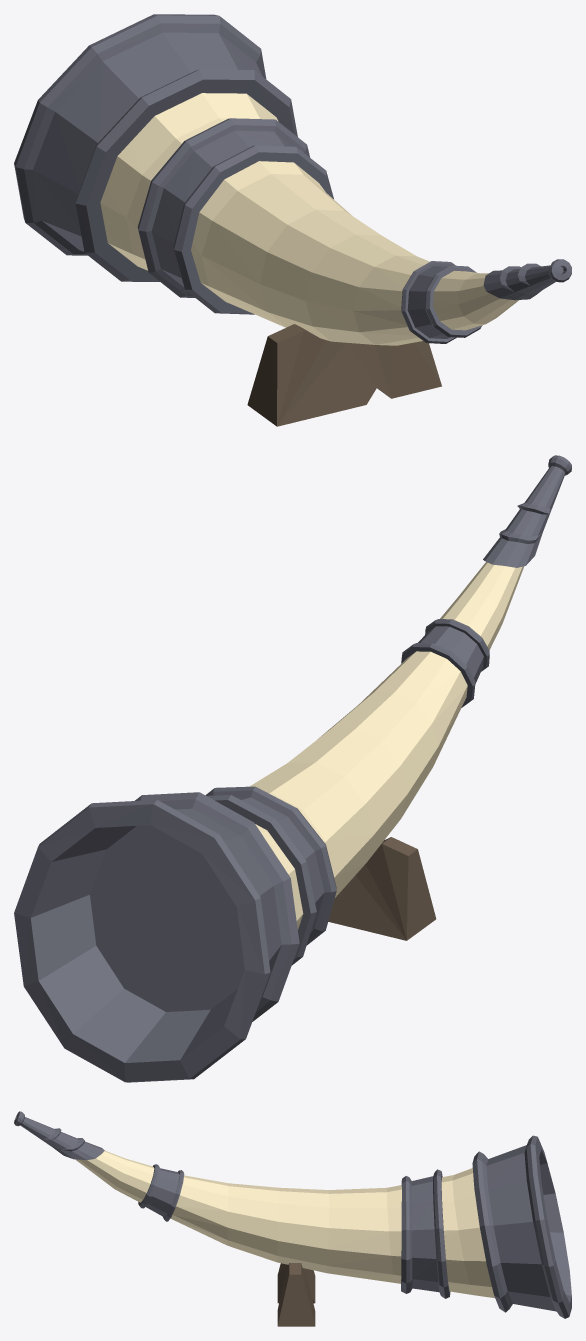
Rendered from alarm_horn.glb.
3 renders of one model, top to bottom at view 1: azimuth 30°, elevation 25°; view 2: azimuth 150°, elevation 25°; view 3: azimuth 270°, elevation 25°, orthographic. The views are drawn at different scales.
Visible parts, largest first — view 1: alarm_horn; view 2: alarm_horn; view 3: alarm_horn.
Boxes of the visible parts, box(x1,y1,x2,y2) form: alarm_horn: box(14, 14, 571, 426); alarm_horn: box(14, 455, 571, 1082); alarm_horn: box(14, 1111, 571, 1326).
Size of the model in its own units: 0.2684 by 0.3133 by 0.8.
Materials: 1 (1 with a texture image).
